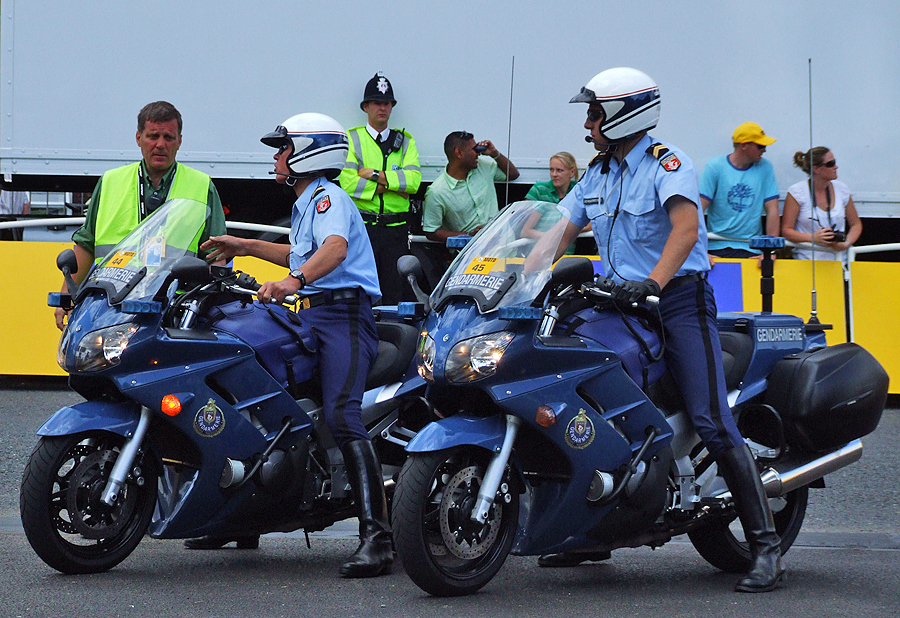helmet: (585, 69, 668, 144), (269, 119, 355, 182)
